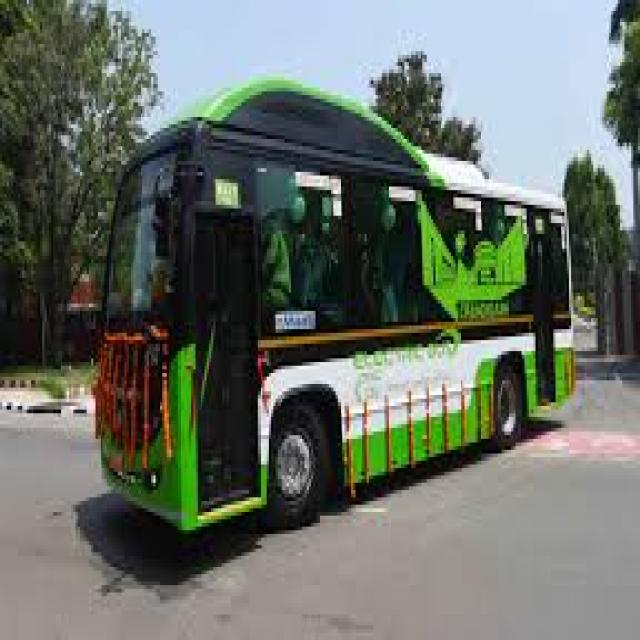BUS: (66, 99, 604, 534)
